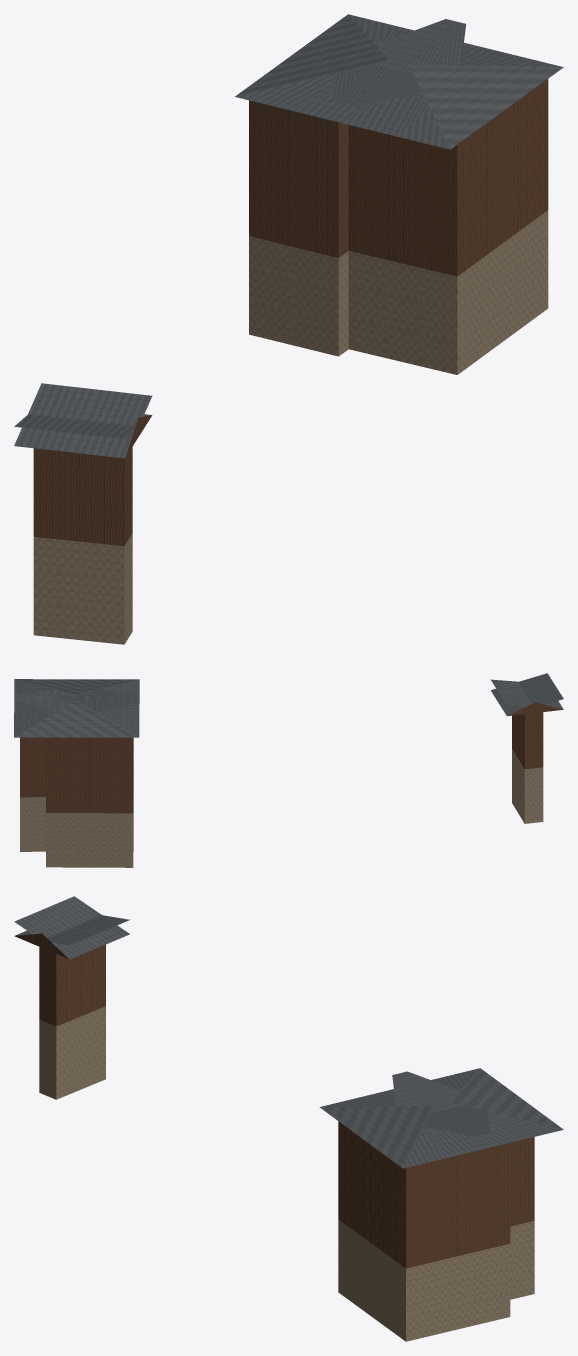
File: bld_c18_28_391.gltf
3 renders of one model, top to bottom at view 1: azimuth 30°, elevation 25°; view 2: azimuth 150°, elevation 25°; view 3: azimuth 270°, elevation 25°, orthographic. The views are drawn at different scales.
Visible parts, largest first — view 1: bld_c18_28_391; view 2: bld_c18_28_391; view 3: bld_c18_28_391.
Part boxes in pixels (left/top/right/bottom): bld_c18_28_391: left=14, top=14, right=563, bottom=644; bld_c18_28_391: left=14, top=673, right=563, bottom=867; bld_c18_28_391: left=14, top=896, right=563, bottom=1341.
Bounding box in the file's own units: 41.79 × 13.4 × 34.72.
Materials: 4 (4 with a texture image).
